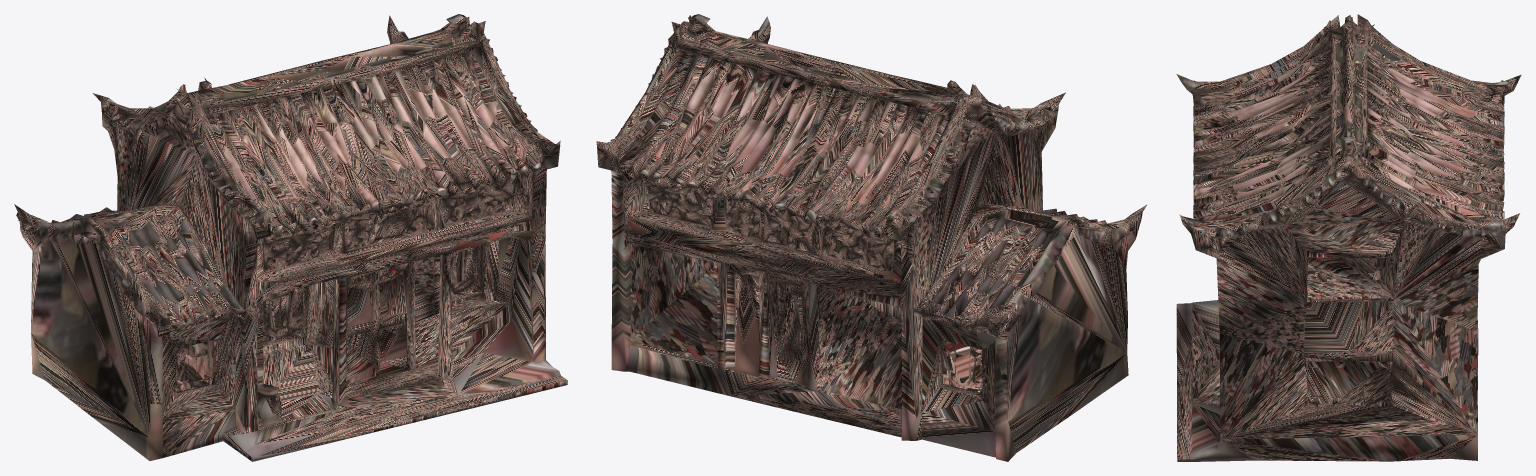
File: bq_inn.lod.glb
3 views of the same model, side by side, from view 1: azimuth 30°, elevation 25°; view 2: azimuth 150°, elevation 25°; view 3: azimuth 270°, elevation 25° (orthographic).
Bounding box in the file's own units: 1.91 × 1.43 × 1.43.
Materials: 1 (1 with a texture image).
